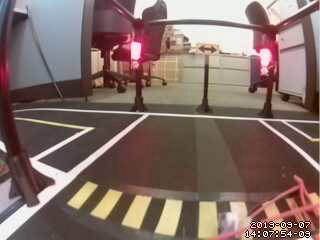Left_Right_sign: (195, 40, 224, 57)
Traffic_light_red: (130, 38, 143, 68), (260, 48, 271, 77)
